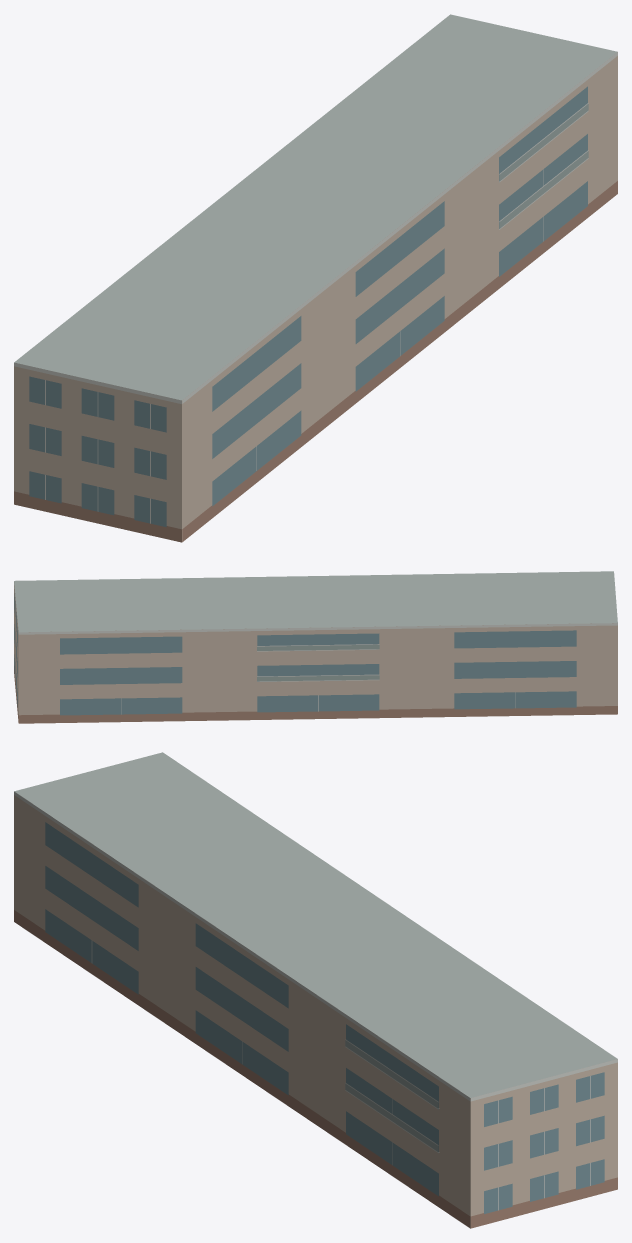
File: survey-upis-32644013.glb
3 renders of one model, top to bottom at view 1: azimuth 30°, elevation 25°; view 2: azimuth 150°, elevation 25°; view 3: azimuth 270°, elevation 25°, orthographic. The views are drawn at different scales.
Visible parts, largest first — view 1: survey-upis-32644013.tmp; view 2: survey-upis-32644013.tmp; view 3: survey-upis-32644013.tmp.
Part boxes in pixels (<box>): survey-upis-32644013.tmp: <box>14,14,617,542</box>; survey-upis-32644013.tmp: <box>14,571,617,723</box>; survey-upis-32644013.tmp: <box>14,752,617,1228</box>.
Size of the model in its own units: 52 by 9.15 by 38.37.
